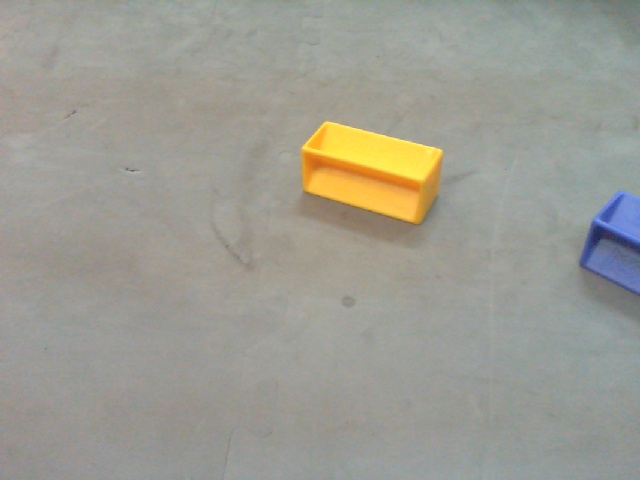BlueSample: (577, 190, 640, 295)
YellowSample: (299, 121, 446, 230)
